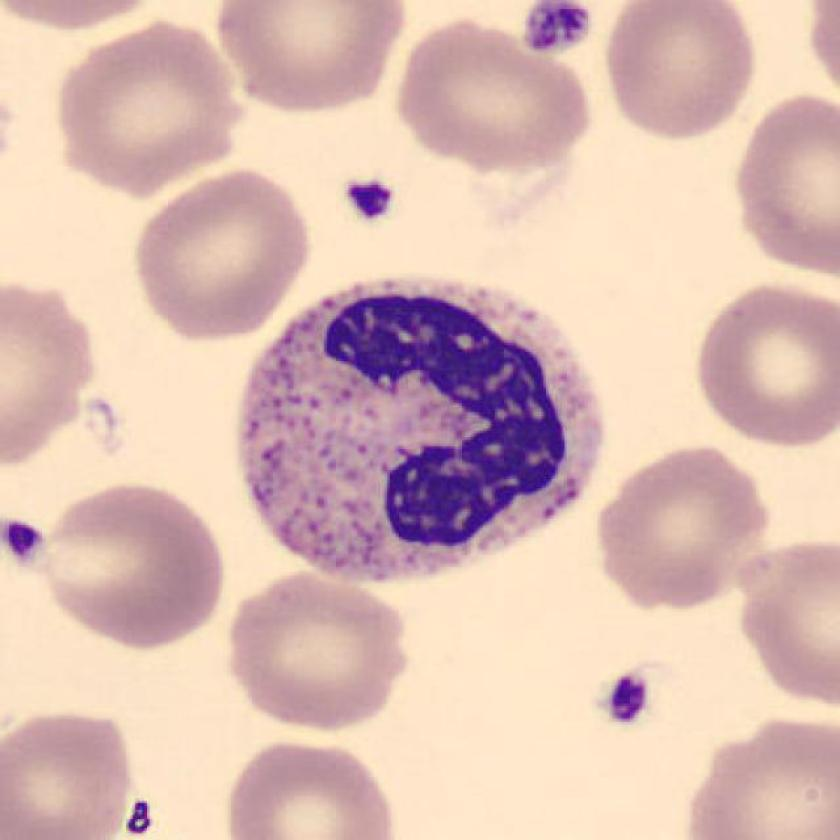neutrophil: (240, 279, 606, 585)
